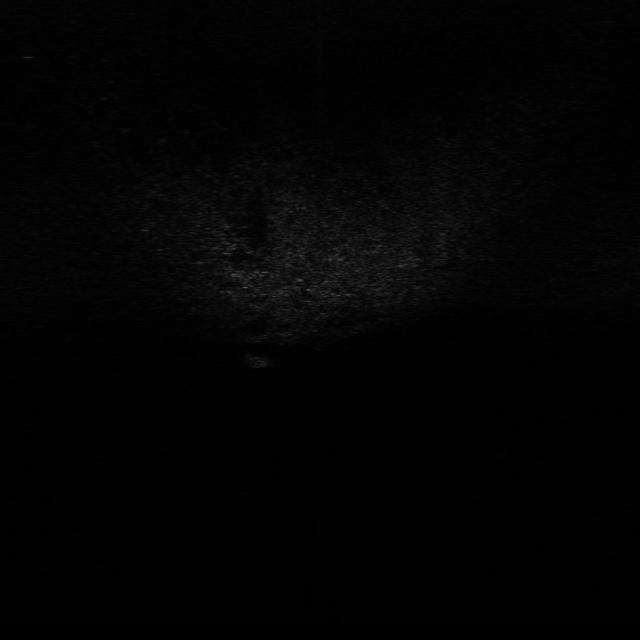cube: (242, 344, 276, 373)
